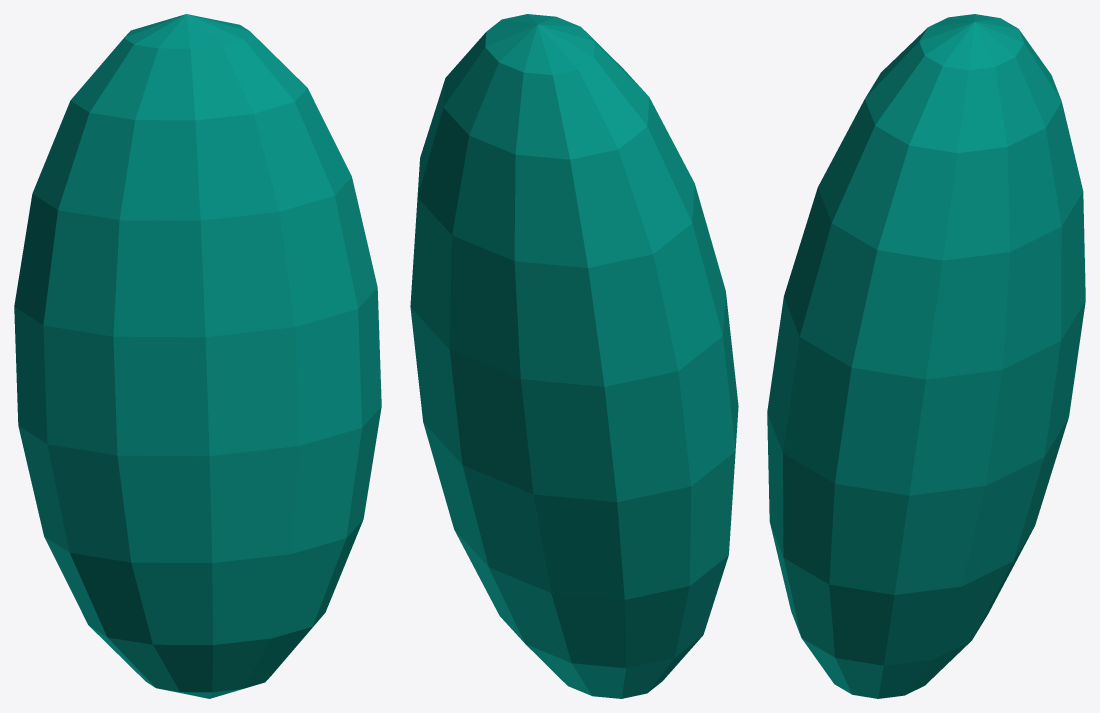
Rendered from n5_n5_group1471686764_lev5.glb.
3 views of the same model, side by side, from view 1: azimuth 30°, elevation 25°; view 2: azimuth 150°, elevation 25°; view 3: azimuth 270°, elevation 25° (orthographic). The views are drawn at different scales.
Visible parts, largest first — view 1: n5_n5_group1471686764_lev5; view 2: n5_n5_group1471686764_lev5; view 3: n5_n5_group1471686764_lev5.
Boxes of the visible parts, x1,y1,x2,y2 form: n5_n5_group1471686764_lev5: [14, 14, 381, 698]; n5_n5_group1471686764_lev5: [410, 14, 738, 698]; n5_n5_group1471686764_lev5: [767, 14, 1085, 698].
Bounding box in the file's own units: 1.76 × 3.62 × 1.54.
